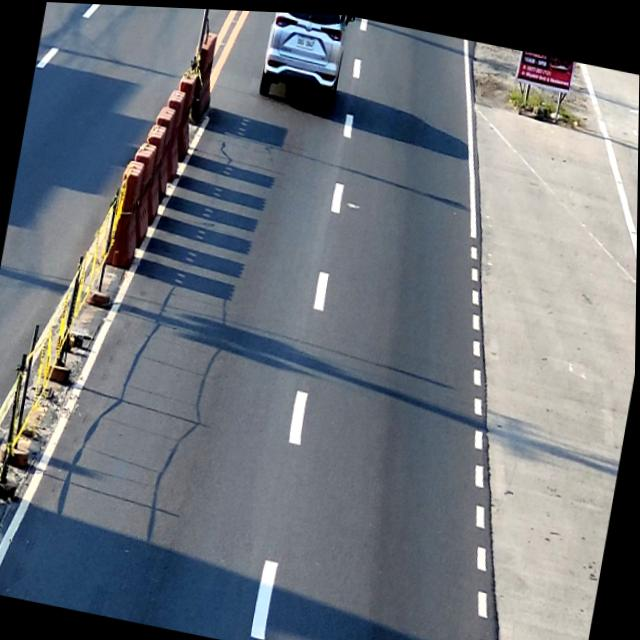Car: (257, 9, 355, 107)
License-Plate: (296, 34, 315, 49)
